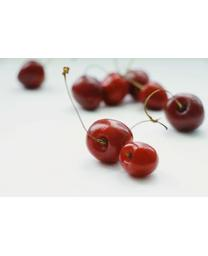cherry: (87, 119, 134, 165), (164, 92, 205, 133), (118, 141, 158, 179), (71, 74, 104, 111), (17, 60, 43, 89), (139, 82, 165, 110), (101, 74, 126, 103)
